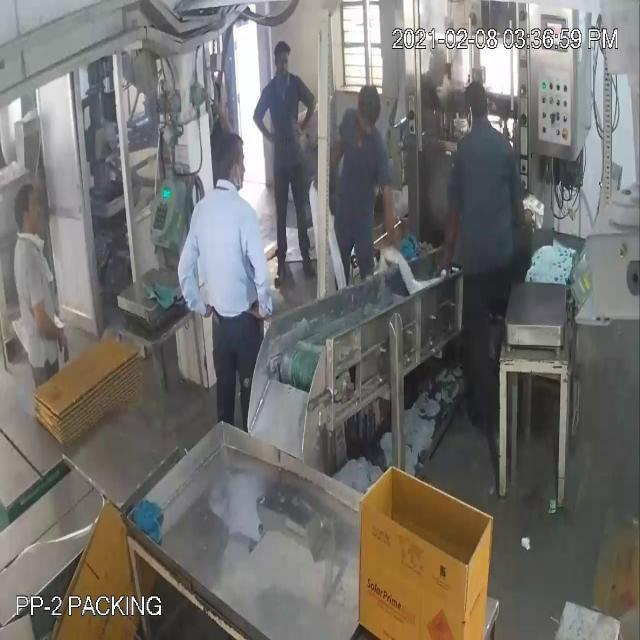No_Gloves: (20, 43, 453, 333)
